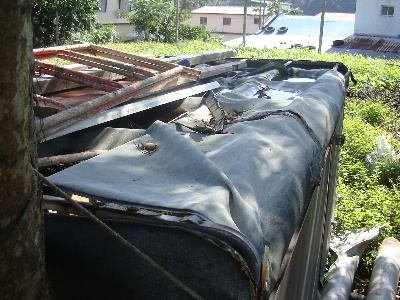plastic_bag: (36, 65, 348, 296)
